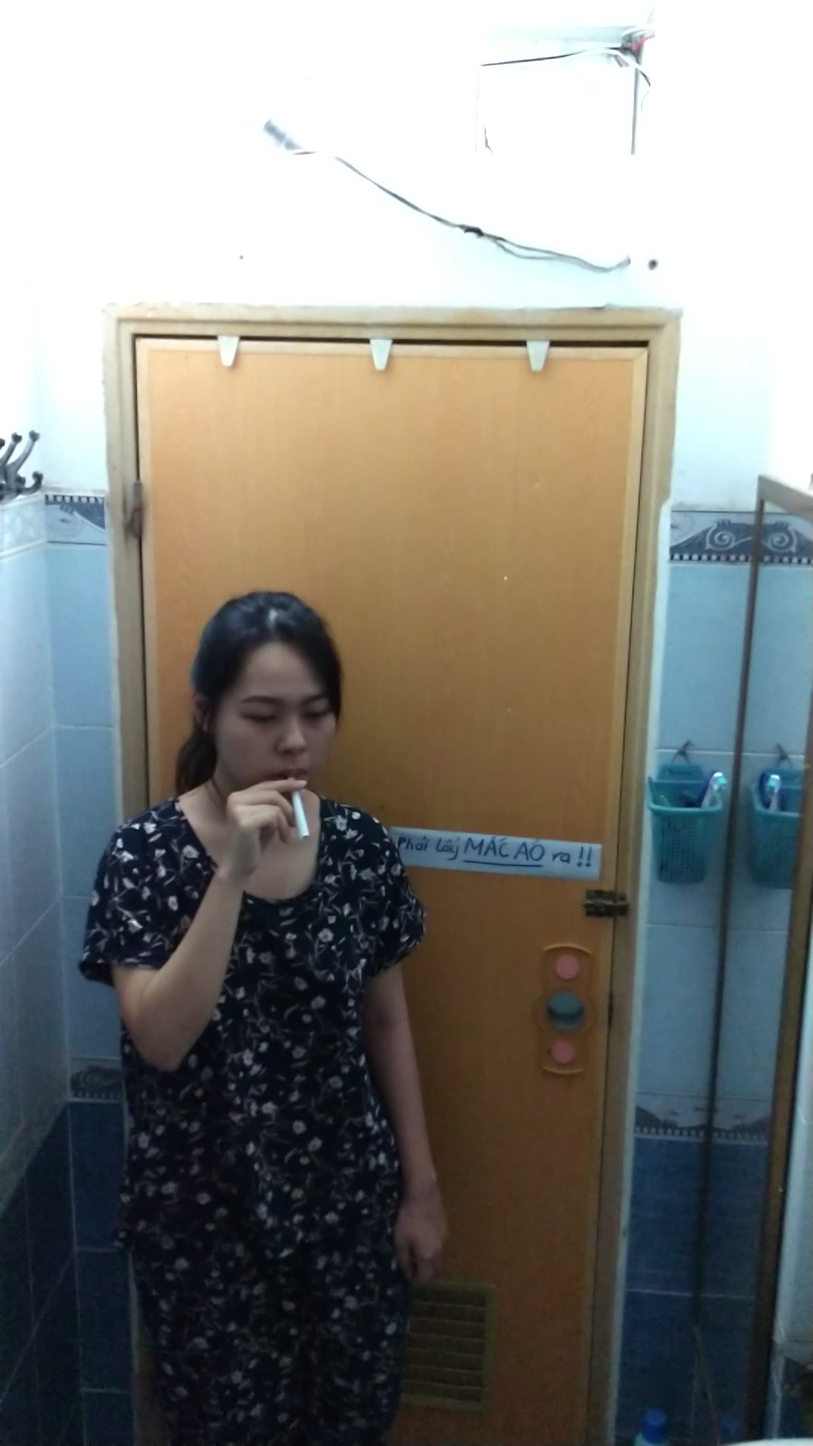cigarette: (287, 790, 314, 846)
person: (81, 569, 460, 1446)
